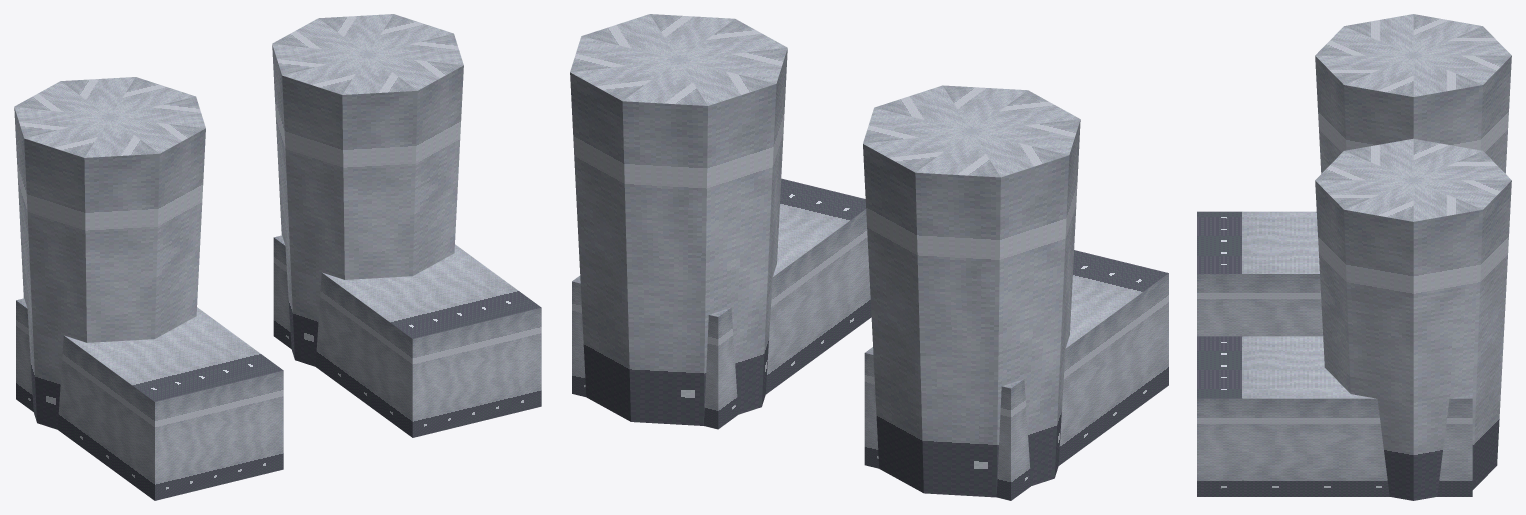
Rendered from botas_de_ferro.glb.
The picture shows the model from 3 angles, left to right: view 1: azimuth 30°, elevation 25°; view 2: azimuth 150°, elevation 25°; view 3: azimuth 270°, elevation 25°; orthographic projection. The views are drawn at different scales.
Visible parts, largest first — view 1: botas_de_ferro; view 2: botas_de_ferro; view 3: botas_de_ferro.
Part boxes in pixels (x1,y1,x2,y2): botas_de_ferro: (14, 14, 541, 500); botas_de_ferro: (570, 14, 1168, 500); botas_de_ferro: (1197, 14, 1511, 500).
Bounding box in the file's own units: 0.5 × 0.32 × 0.32.
1 material, 1 textured.
